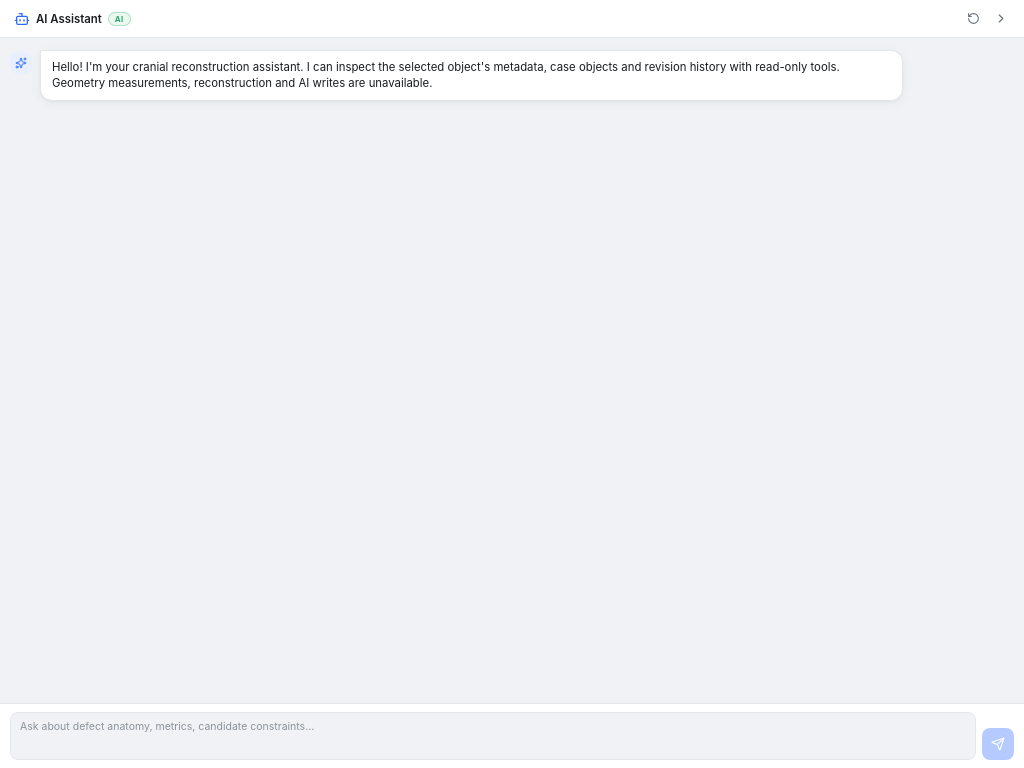
Scenario: AiChatPanel Gemini FastAPI integration › shows the Gemini badge once the backend reports Gemini
Expected: the text "AI" is shown, x1=108 y1=12 x2=131 y2=26
In the text box named "Message for AI assistant": {"x": 493, "y": 736} x1=10 y1=712 x2=976 y2=760, type "What is selected?"
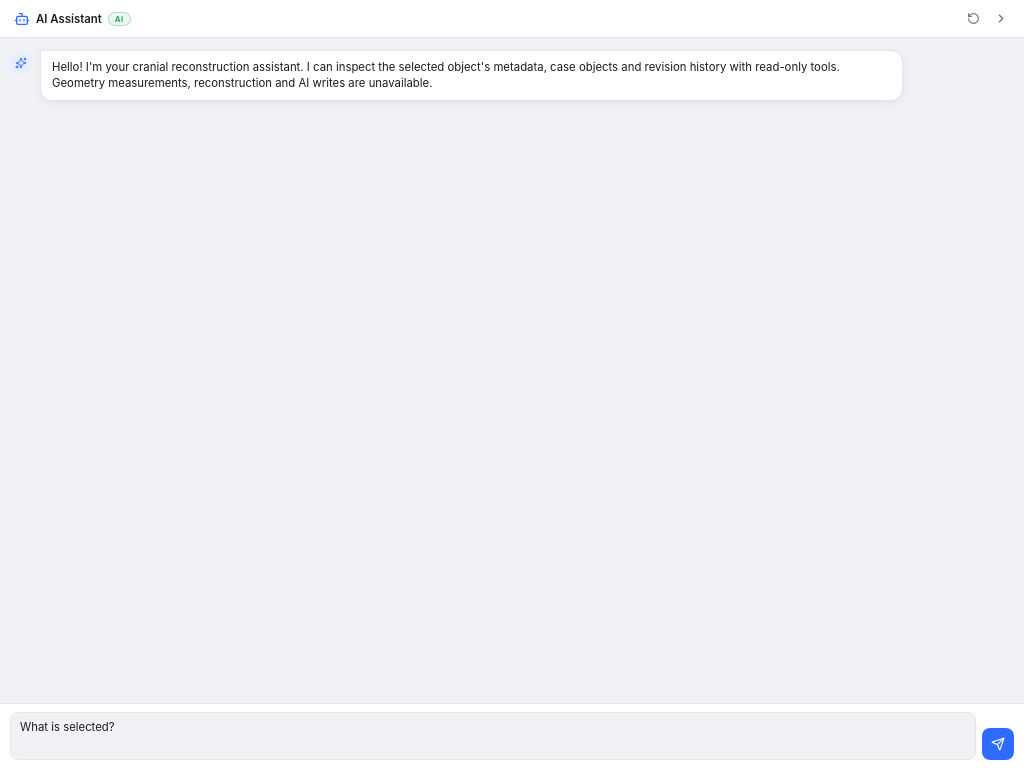
Click the button named "Send message to AI assistant": {"x": 998, "y": 744} x1=982 y1=728 x2=1014 y2=760
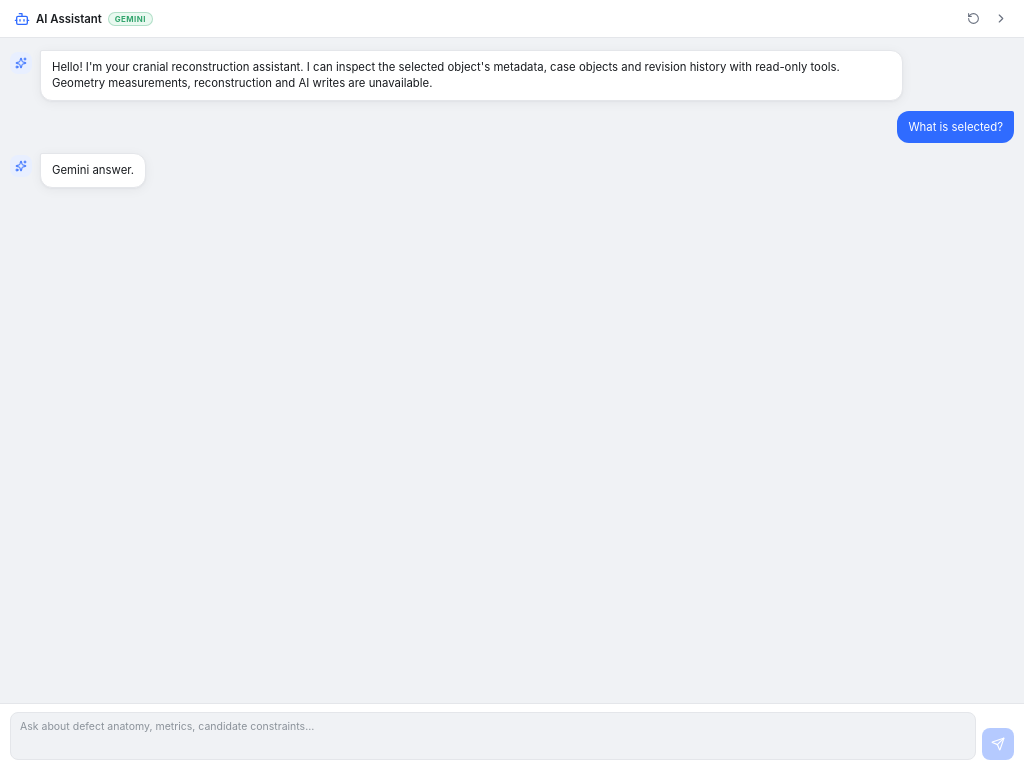
Expected: the text "Gemini answer." is shown, x1=52 y1=164 x2=134 y2=178
Expected: the text "Gemini" is shown, x1=108 y1=12 x2=153 y2=26
